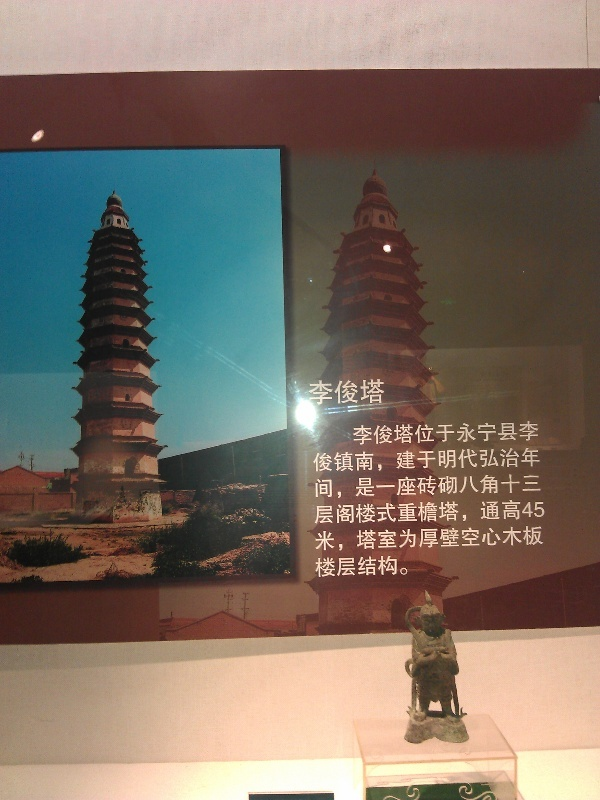text: (529, 498, 545, 526), (321, 498, 336, 526), (337, 498, 352, 526), (353, 498, 368, 526), (369, 498, 384, 526), (385, 498, 400, 526), (401, 498, 416, 526), (417, 498, 432, 526), (433, 498, 448, 526), (449, 498, 464, 526), (465, 498, 480, 526), (481, 498, 496, 526), (497, 498, 512, 526), (513, 498, 528, 526), (529, 525, 545, 551), (353, 420, 368, 447), (369, 420, 384, 447), (385, 420, 400, 447), (401, 420, 416, 447), (417, 420, 432, 447), (433, 420, 448, 447), (449, 420, 464, 447), (465, 420, 480, 447), (481, 420, 496, 447), (497, 420, 512, 447), (513, 420, 528, 447), (321, 447, 336, 474), (337, 447, 352, 474), (353, 447, 368, 474), (369, 447, 384, 474), (385, 447, 400, 474), (401, 447, 416, 474), (417, 447, 432, 474), (433, 447, 448, 474), (449, 447, 464, 474), (465, 447, 480, 474), (481, 447, 496, 474), (497, 447, 512, 474), (513, 447, 528, 474), (321, 473, 336, 500), (337, 473, 352, 500), (353, 473, 368, 500), (369, 473, 384, 500), (385, 473, 400, 500), (401, 473, 416, 500), (417, 473, 432, 500), (433, 473, 448, 500), (449, 473, 464, 500), (465, 473, 480, 500), (481, 473, 496, 500), (497, 473, 512, 500), (513, 473, 528, 500), (321, 380, 336, 406), (337, 380, 352, 406), (353, 380, 368, 406), (369, 380, 384, 406), (321, 525, 336, 551), (337, 525, 352, 551), (353, 525, 368, 551), (369, 525, 384, 551), (385, 525, 400, 551), (401, 525, 416, 551), (417, 525, 432, 551), (433, 525, 448, 551), (449, 525, 464, 551), (465, 525, 480, 551), (481, 525, 496, 551), (497, 525, 512, 551), (513, 525, 528, 551), (321, 556, 336, 578), (337, 556, 352, 578), (353, 556, 368, 578), (369, 556, 384, 578), (385, 556, 400, 578), (529, 447, 541, 474), (529, 473, 541, 500), (309, 380, 320, 406), (529, 420, 539, 447), (313, 447, 320, 474), (401, 556, 409, 578), (314, 498, 320, 526), (315, 473, 320, 500), (315, 525, 320, 551), (315, 556, 320, 578), (385, 380, 386, 406)
